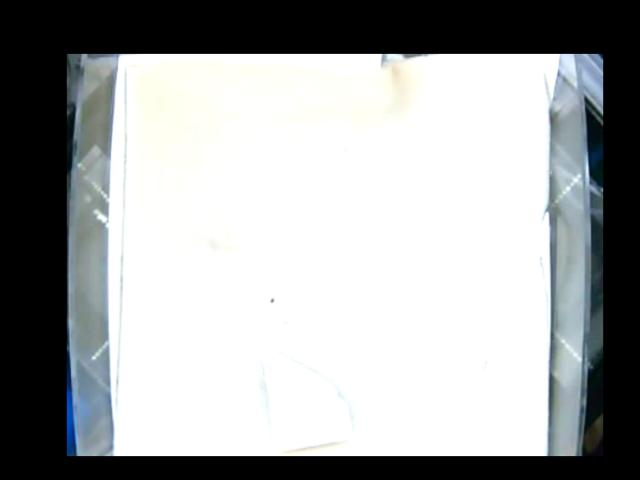China: (259, 347, 353, 452)
